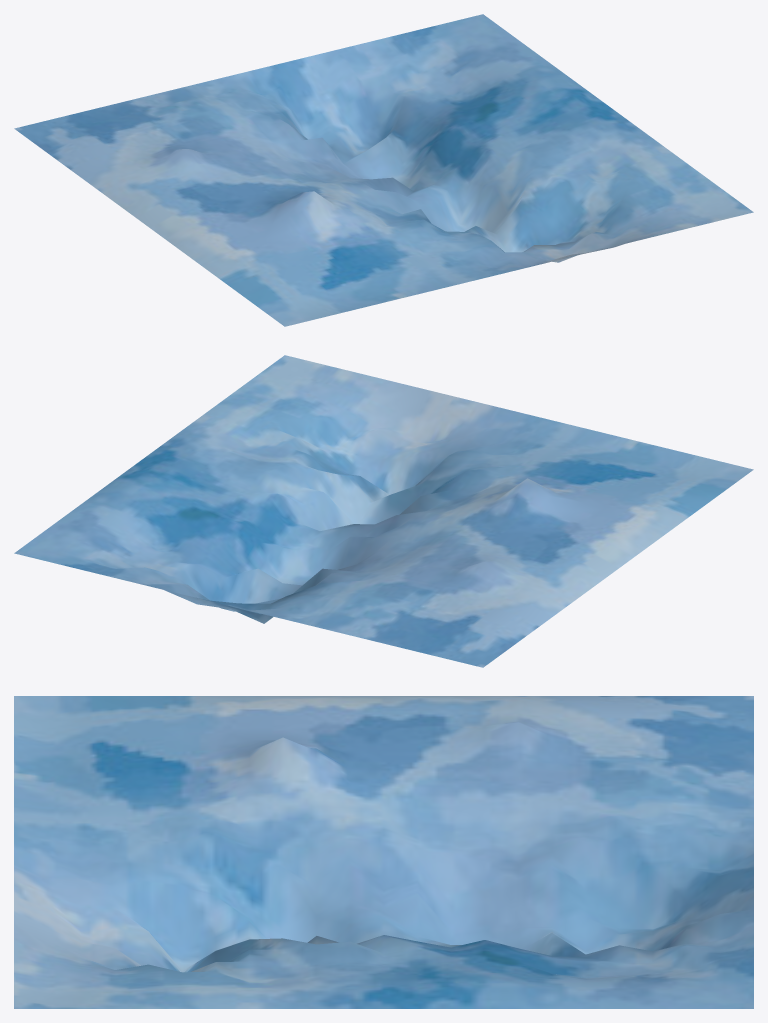
File: caveterrain2.fbx
3 renders of one model, top to bottom at view 1: azimuth 30°, elevation 25°; view 2: azimuth 150°, elevation 25°; view 3: azimuth 270°, elevation 25°, orthographic. The views are drawn at different scales.
Visible parts, largest first — view 1: Plane.002; view 2: Plane.002; view 3: Plane.002.
Boxes of the visible parts, x1=… form: Plane.002: x1=14, y1=14, x2=753, y2=326; Plane.002: x1=14, y1=355, x2=753, y2=667; Plane.002: x1=14, y1=696, x2=753, y2=1008.
Size of the model in its own units: 3387 by 624 by 3387.
